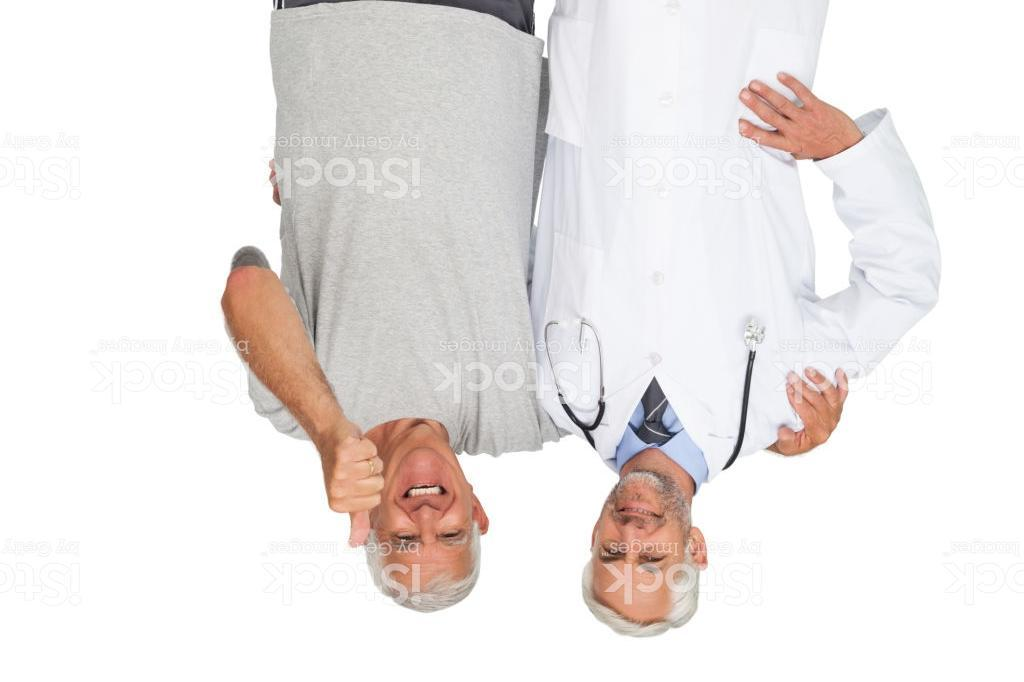thumbsdown: (326, 431, 386, 549)
